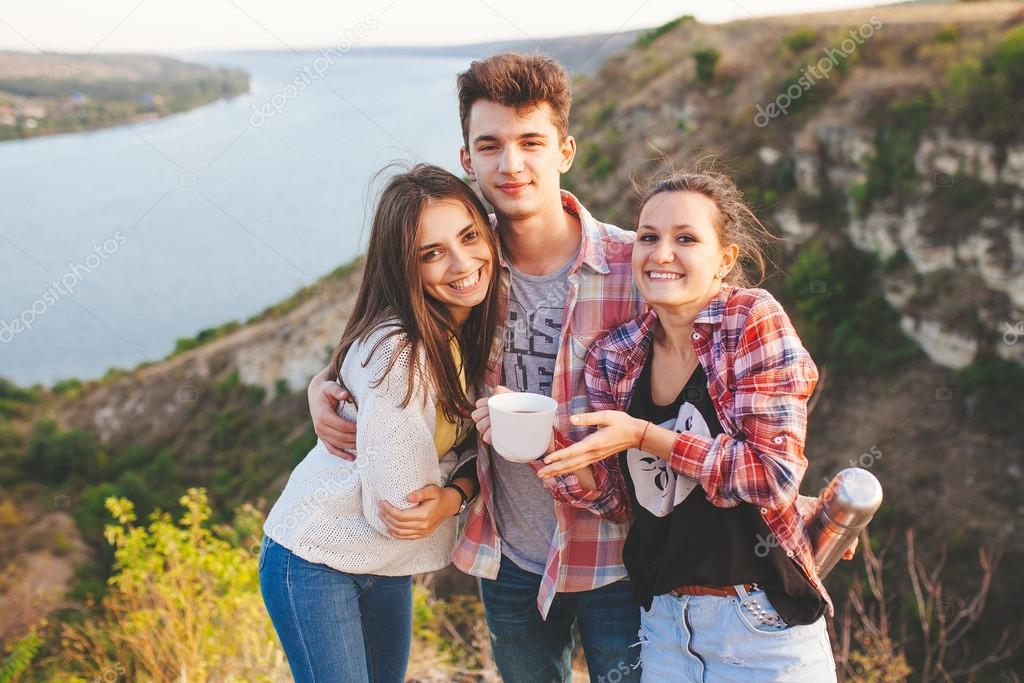bare: (469, 161, 568, 217), (630, 247, 714, 306), (416, 256, 502, 306)
